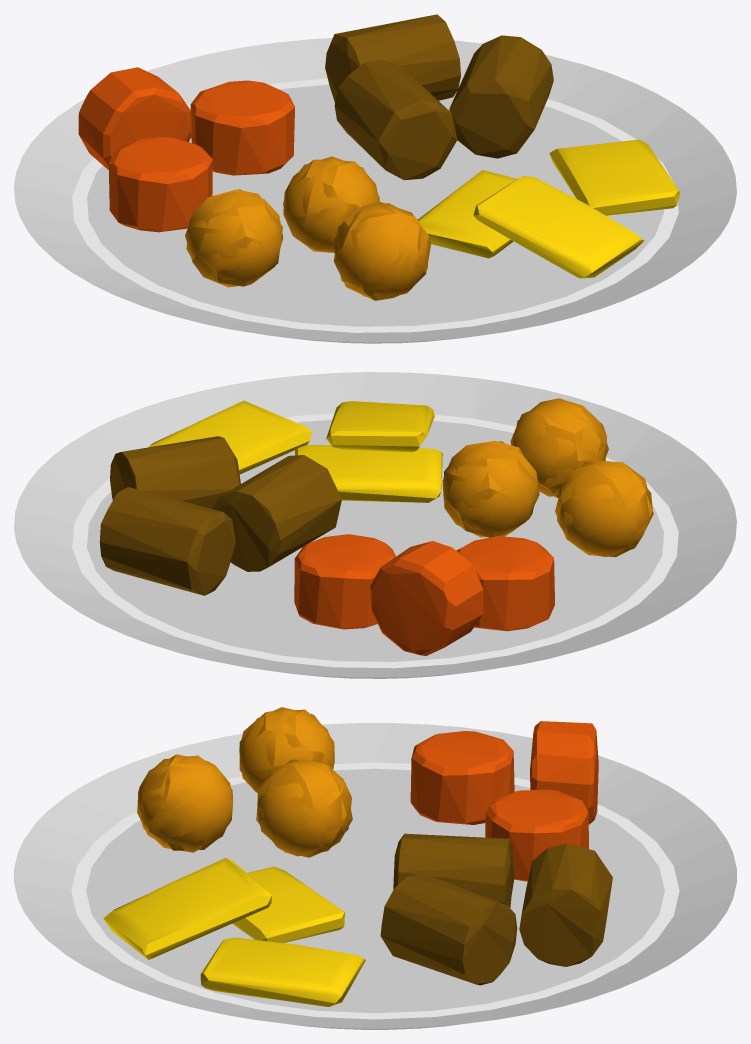
Rendered from dutch_snacks_display_icon.fbx.
3 renders of one model, top to bottom at view 1: azimuth 30°, elevation 25°; view 2: azimuth 150°, elevation 25°; view 3: azimuth 270°, elevation 25°, orthographic.
Visible parts, largest first — view 1: display_plate, display_frikandel, display_bamihap, display_bitterbal, display_kaassoufle; view 2: display_plate, display_frikandel, display_bamihap, display_bitterbal, display_kaassoufle; view 3: display_plate, display_frikandel, display_kaassoufle, display_bitterbal, display_bamihap.
Boxes of the visible parts, <box> form: display_plate: <box>14,38,736,343</box>; display_frikandel: <box>325,14,553,180</box>; display_bamihap: <box>78,67,294,232</box>; display_bitterbal: <box>185,156,431,300</box>; display_kaassoufle: <box>417,139,680,278</box>; display_plate: <box>14,372,736,678</box>; display_frikandel: <box>99,436,341,595</box>; display_bamihap: <box>294,534,554,655</box>; display_bitterbal: <box>442,398,653,557</box>; display_kaassoufle: <box>149,400,442,502</box>; display_plate: <box>14,723,736,1029</box>; display_frikandel: <box>380,833,612,985</box>; display_kaassoufle: <box>103,858,365,1006</box>; display_bitterbal: <box>137,707,352,857</box>; display_bamihap: <box>410,721,598,881</box>.
Size of the model in its own units: 56.9 by 9.45 by 56.9.
